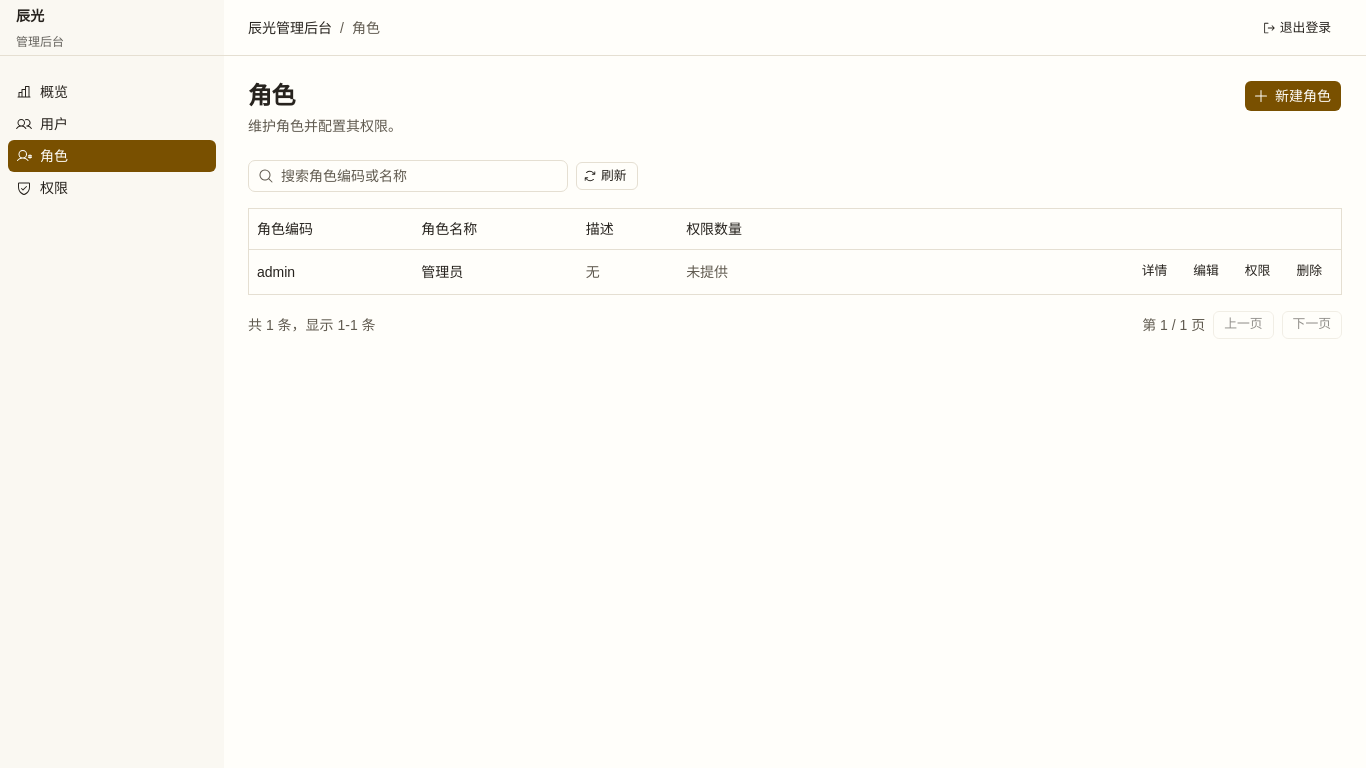
Test case: accessibility › exposes a title on the delete confirmation dialog
Click the button "删除".
click(1309, 272)  # box [1285,258,1333,286]
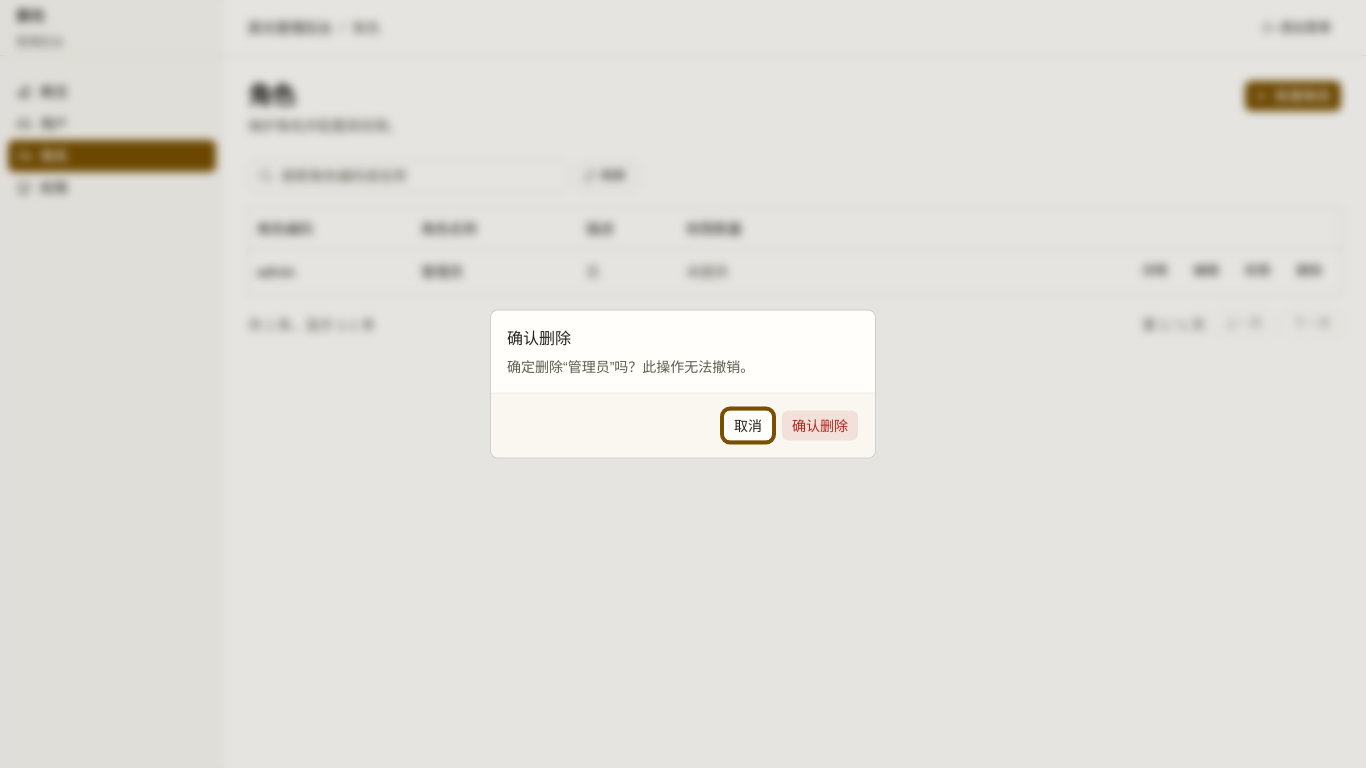
Check: the dialog "确认删除" is shown, box [491,310,875,458]
